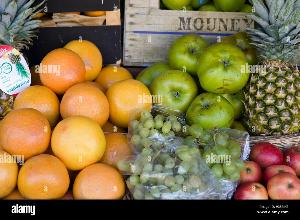grape: (120, 113, 250, 208)
orange: (0, 32, 148, 204)
pomegranate: (242, 136, 300, 208)
